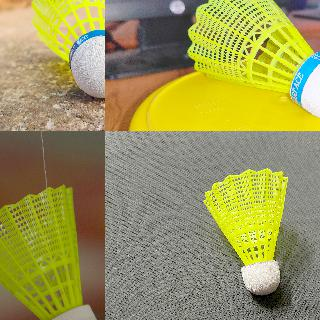shuttlecock: (187, 0, 319, 119), (0, 185, 102, 319), (203, 168, 287, 294), (31, 0, 104, 98)
